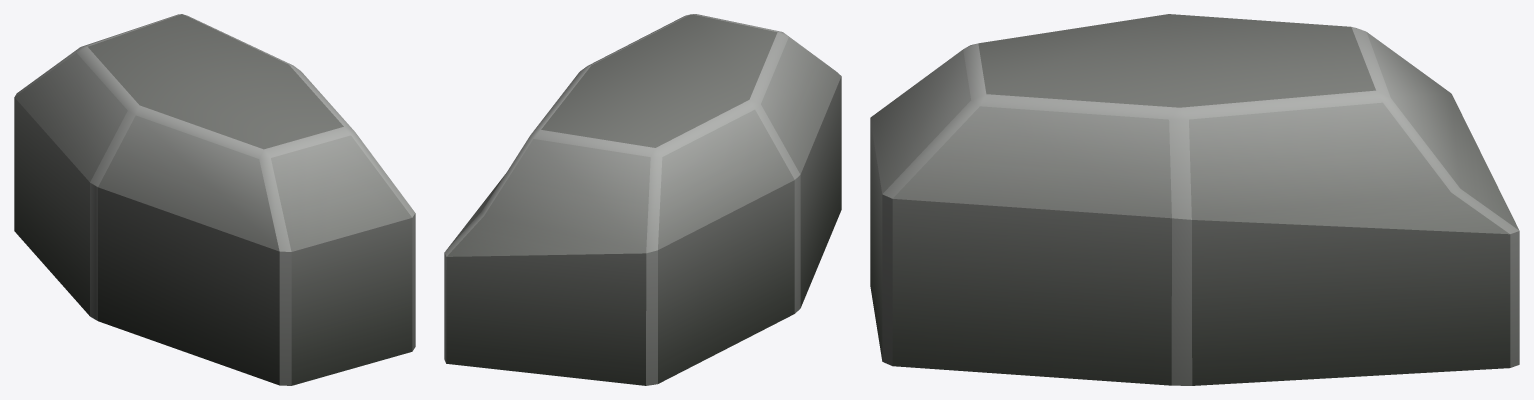
File: Rock-1-6.fbx
3 views of the same model, side by side, from view 1: azimuth 30°, elevation 25°; view 2: azimuth 150°, elevation 25°; view 3: azimuth 270°, elevation 25° (orthographic). The views are drawn at different scales.
Visible parts, largest first — view 1: Rock-1-6; view 2: Rock-1-6; view 3: Rock-1-6.
Part boxes in pixels (<box>): Rock-1-6: <box>14,14,415,385</box>; Rock-1-6: <box>444,14,841,385</box>; Rock-1-6: <box>870,14,1519,385</box>.
Size of the model in its own units: 97.84 by 76.64 by 180.
